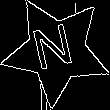N_S: (32, 22, 81, 80)
